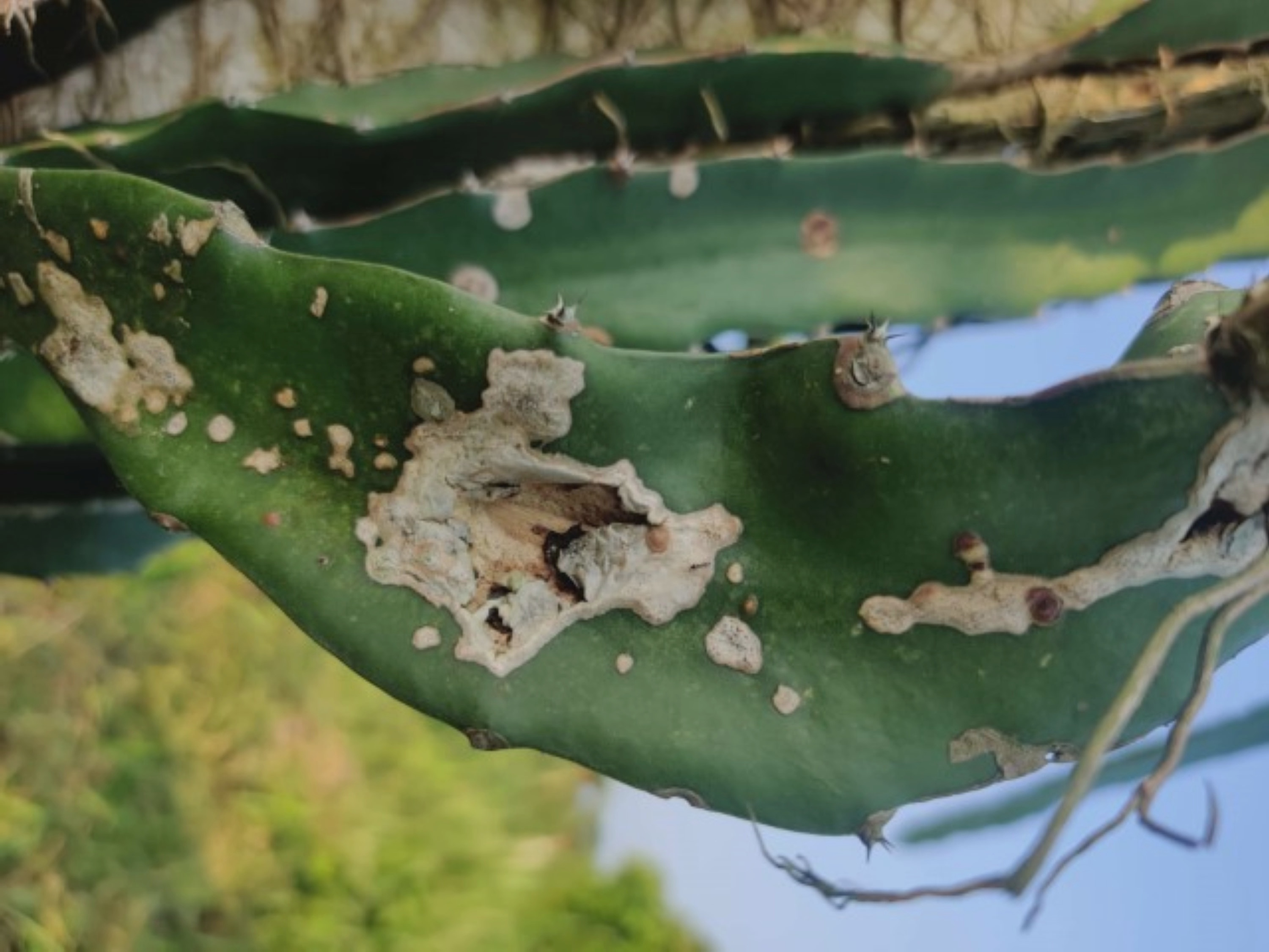stemcanker: (42, 203, 1222, 766)
